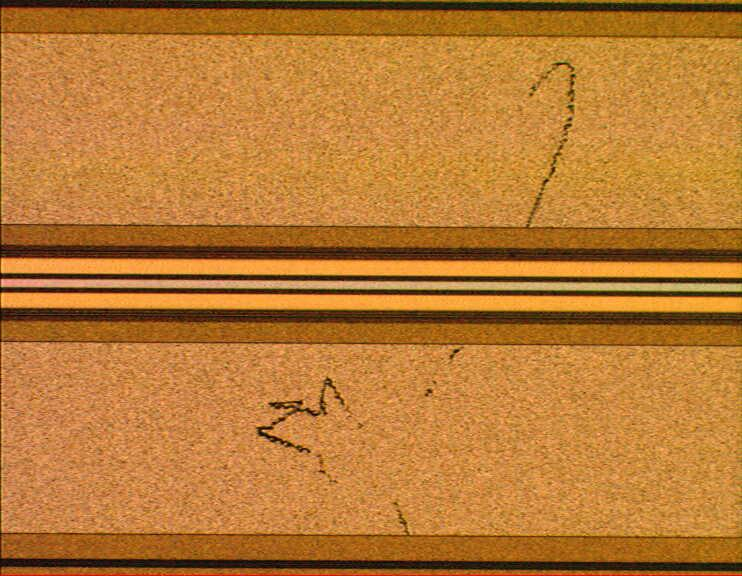SCRATCH: (248, 53, 585, 559)
